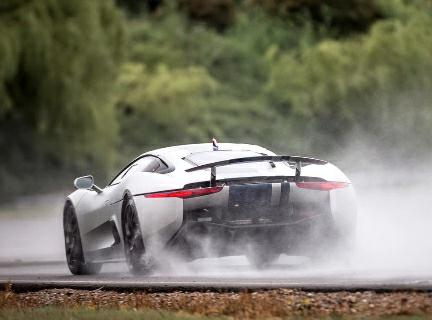捷豹-C-X75: (56, 137, 365, 274)
